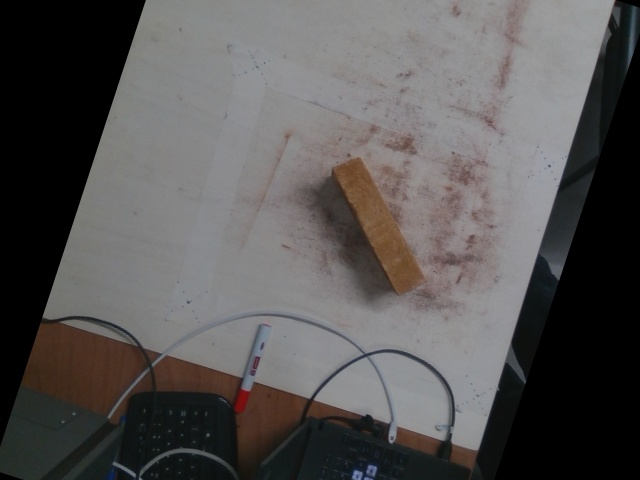brick-side: (333, 159, 425, 294)
